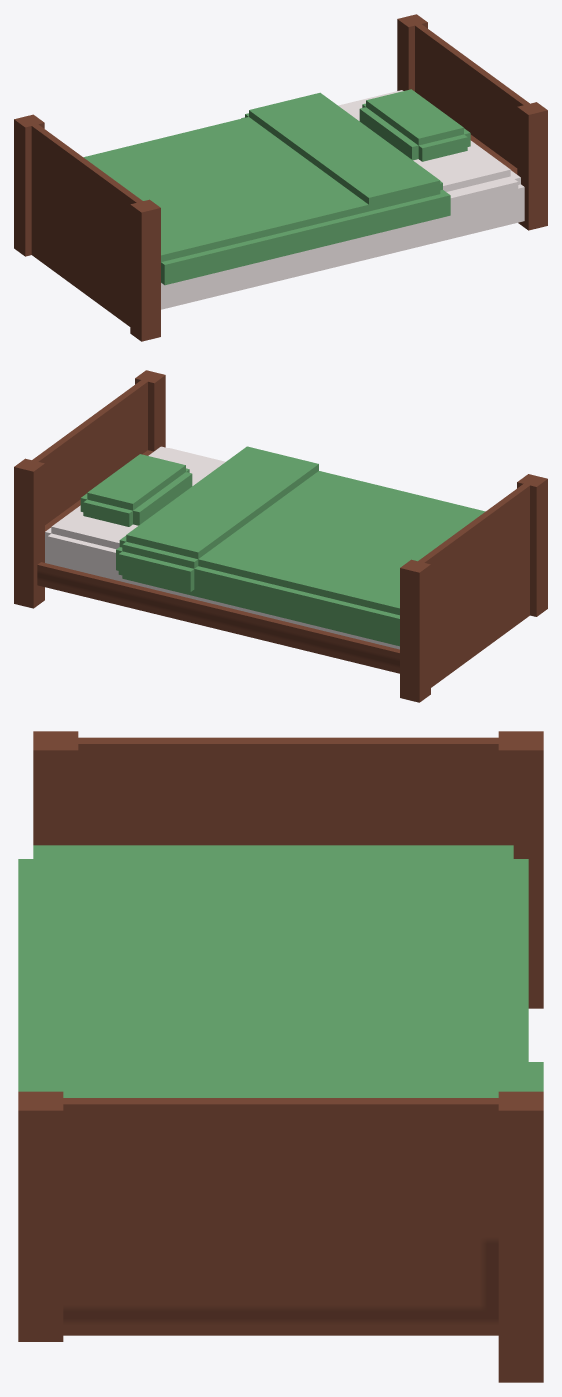
File: bed.dae
3 views of the same model, one above another, from view 1: azimuth 30°, elevation 25°; view 2: azimuth 150°, elevation 25°; view 3: azimuth 270°, elevation 25° (orthographic). The views are drawn at different scales.
Parts seen in each view (by area): view 1: pl0; view 2: pl0; view 3: pl0.
Boxes of the visible parts, x1,y1,x2,y2 form: pl0: (14,14,547,341); pl0: (14,370,547,702); pl0: (18,731,543,1382).
Bounding box in the file's own units: 62 × 35 × 20.
